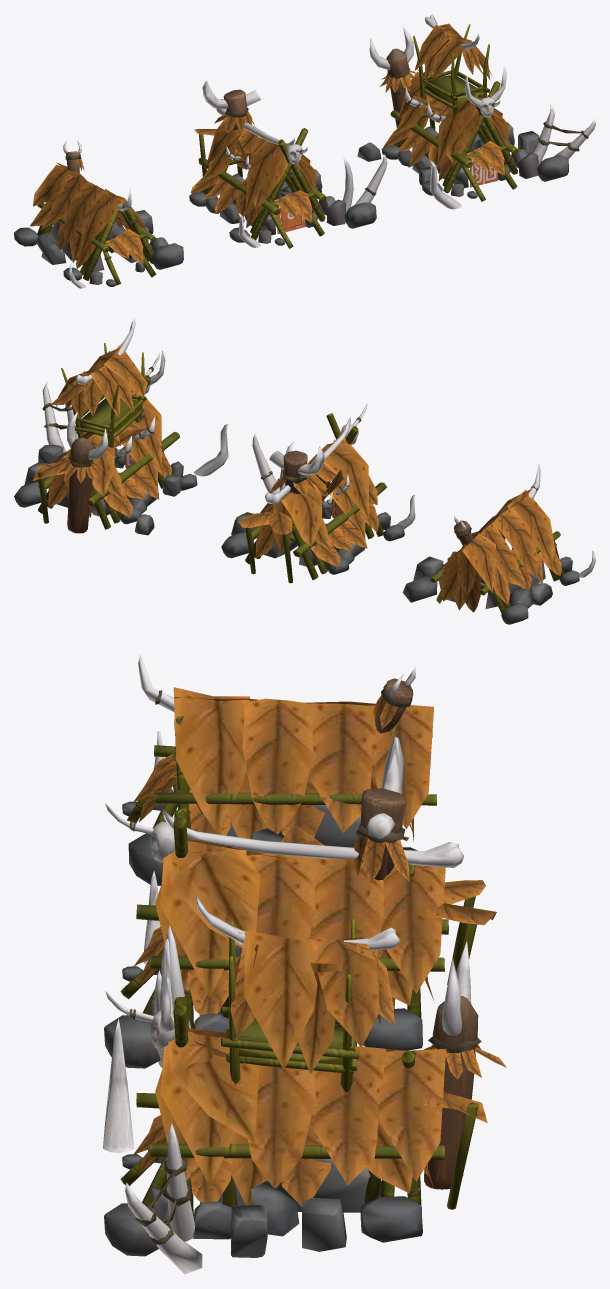
The model's file is BLD_FloHut.glb.
3 views of the same model, one above another, from view 1: azimuth 30°, elevation 25°; view 2: azimuth 150°, elevation 25°; view 3: azimuth 270°, elevation 25° (orthographic). The views are drawn at different scales.
Visible parts, largest first — view 1: normalhouse_mantah_lv3_low, mantah_normalhouse_lv2_low, normalhouse_mantah_lv1_low; view 2: normalhouse_mantah_lv3_low, mantah_normalhouse_lv2_low, normalhouse_mantah_lv1_low; view 3: normalhouse_mantah_lv3_low, mantah_normalhouse_lv2_low, normalhouse_mantah_lv1_low.
Boxes of the visible parts, x1=… form: normalhouse_mantah_lv3_low: x1=357, y1=14, x2=595, y2=209; mantah_normalhouse_lv2_low: x1=189, y1=80, x2=387, y2=248; normalhouse_mantah_lv1_low: x1=14, y1=141, x2=183, y2=288; normalhouse_mantah_lv3_low: x1=14, y1=317, x2=228, y2=535; mantah_normalhouse_lv2_low: x1=221, y1=403, x2=415, y2=583; normalhouse_mantah_lv1_low: x1=402, y1=462, x2=595, y2=624; normalhouse_mantah_lv3_low: x1=103, y1=894, x2=506, y2=1274; mantah_normalhouse_lv2_low: x1=104, y1=737, x2=496, y2=1068; normalhouse_mantah_lv1_low: x1=122, y1=654, x2=436, y2=885.
Size of the model in its own units: 3.57 by 1.03 by 1.2.
Materials: 1 (1 with a texture image).
